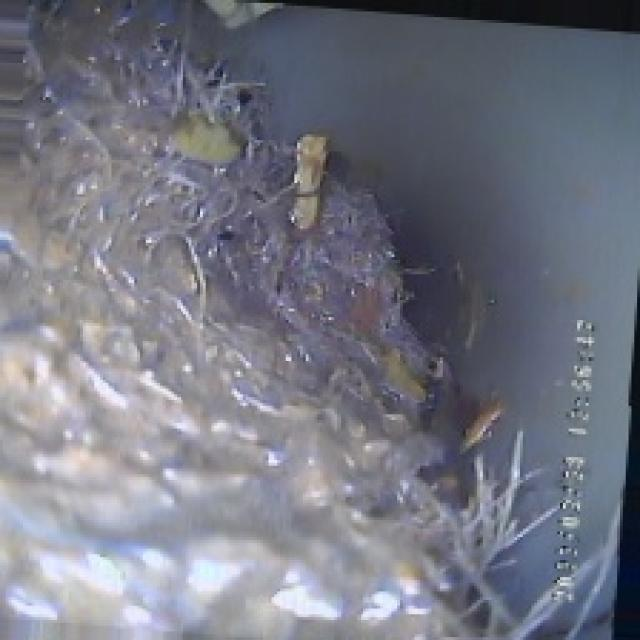sluge accumulation: (20, 11, 514, 623)
